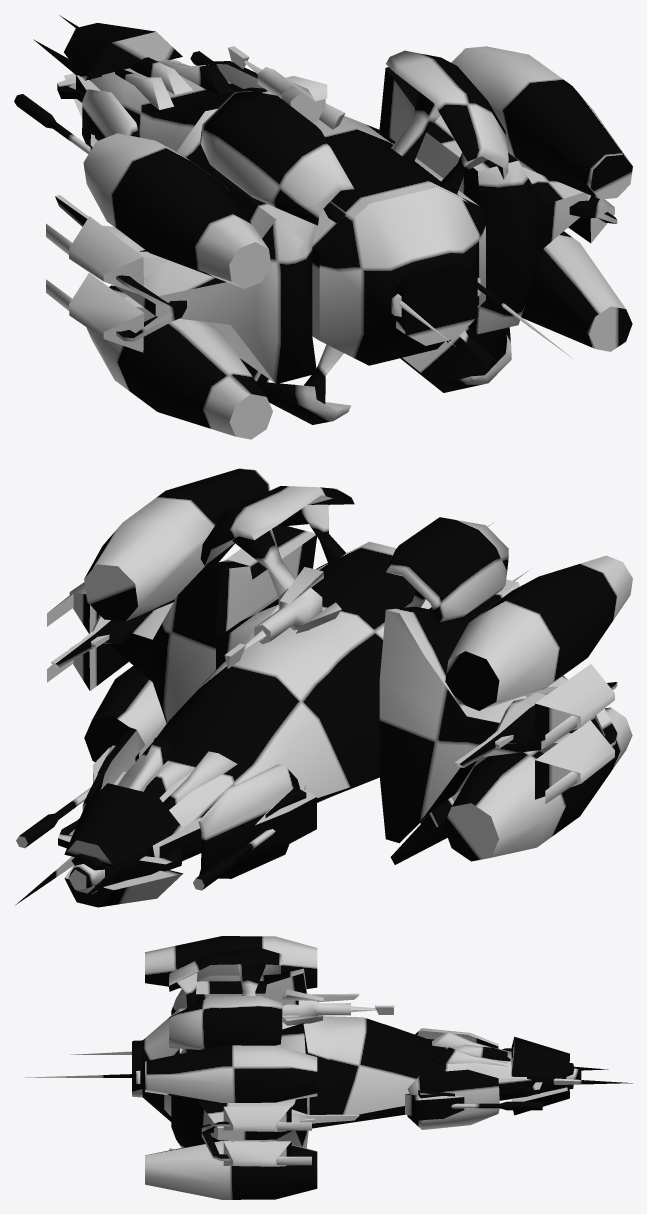
Rendered from vengeance.obj.
3 renders of one model, top to bottom at view 1: azimuth 30°, elevation 25°; view 2: azimuth 150°, elevation 25°; view 3: azimuth 270°, elevation 25°, orthographic. The views are drawn at different scales.
Parts seen in each view (by area): view 1: main; view 2: main; view 3: main.
Boxes of the visible parts, x1,y1,x2,y2 form: main: (14, 15, 632, 439); main: (15, 468, 632, 907); main: (24, 936, 632, 1199).
Size of the model in its own units: 91.17 by 51.77 by 155.
1 material, 1 textured.
